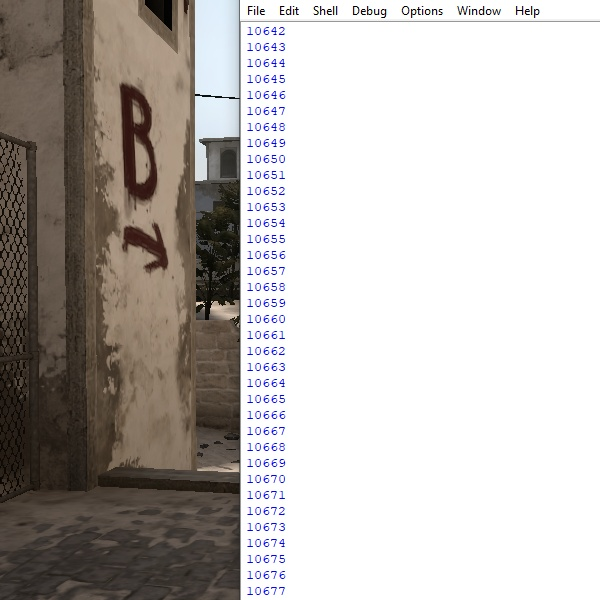ct_body: (188, 197, 237, 323)
